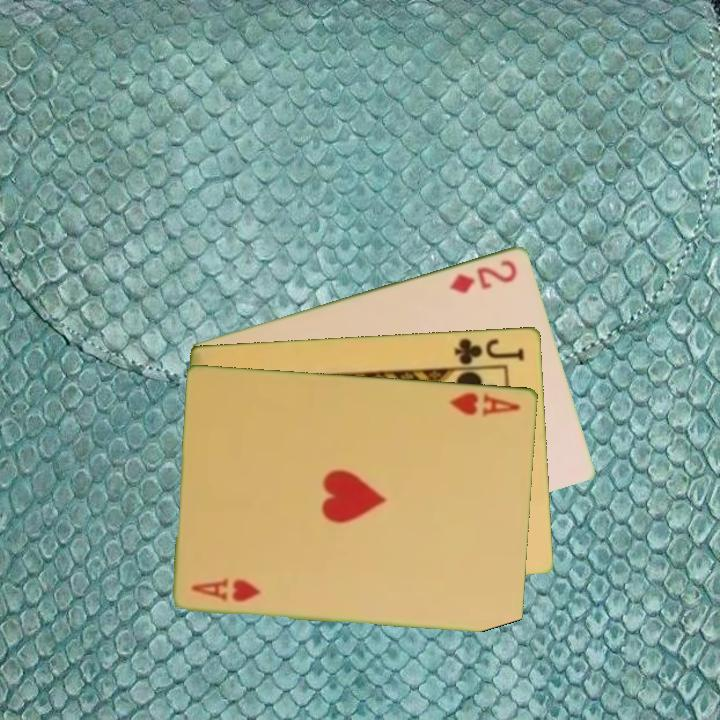2d: (446, 255, 520, 296)
Ah: (188, 575, 264, 605), (447, 389, 524, 418)
Jc: (451, 334, 528, 367)
